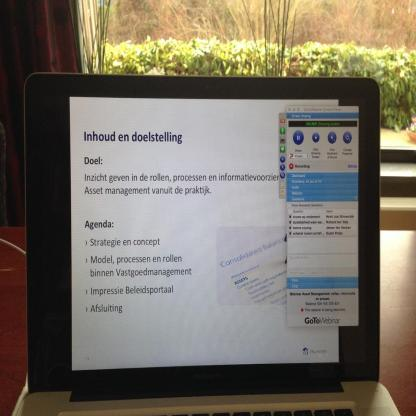board: (24, 73, 400, 416)
